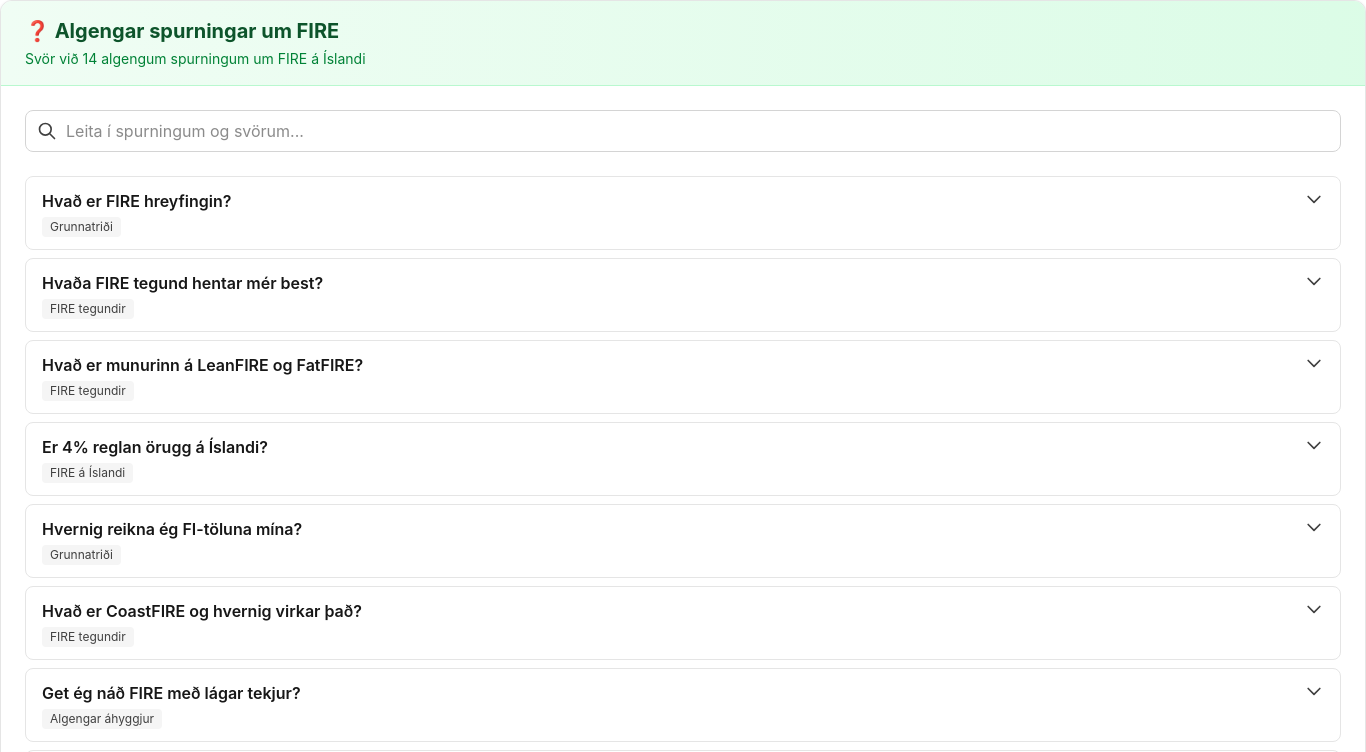
Test: FAQSection › filters questions based on search input
Step 1. Type "CoastFIRE" into the field with placeholder "Leita í spurningum og svörum..." → (683, 131), box [25,110,1341,152]
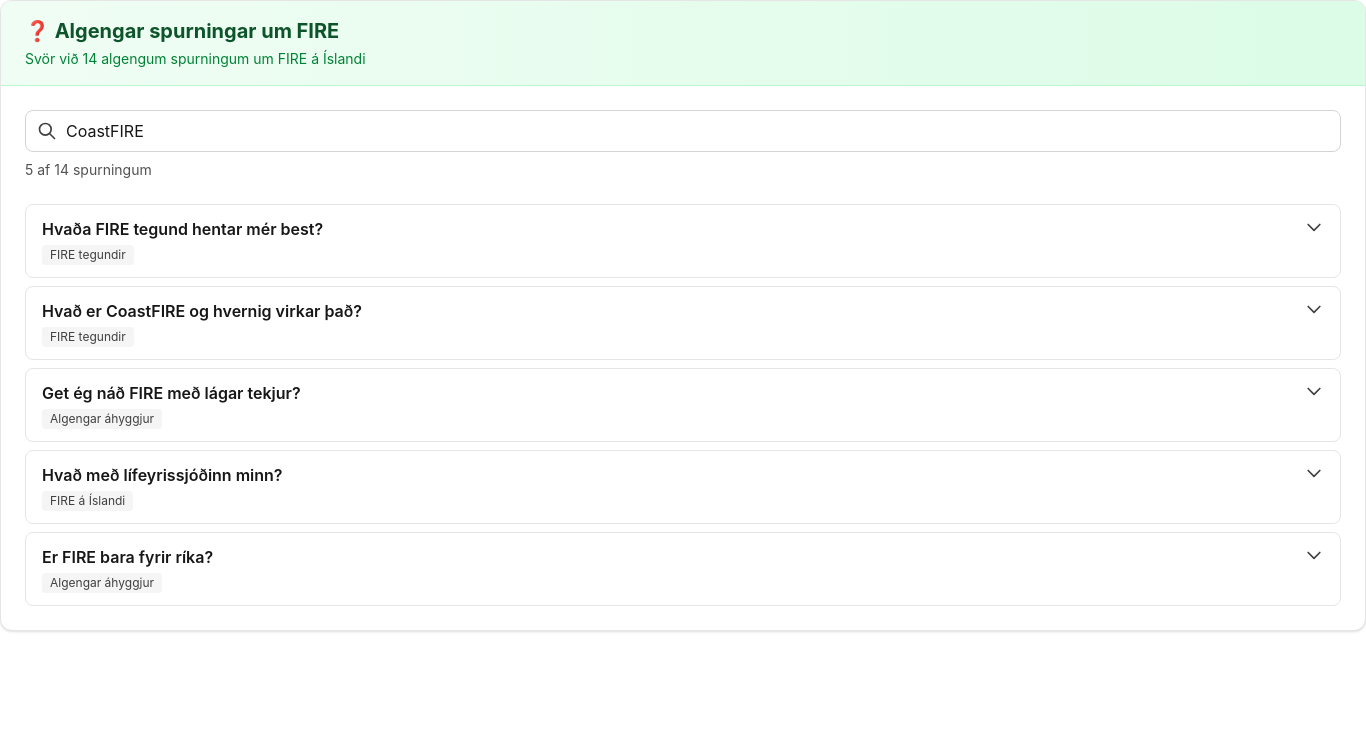
Expected: the text "5 af 14 spurningum" is shown, [25,161,152,178]
Expected: the heading "Hvað er CoastFIRE og hvernig virkar það?" is shown, [42,301,362,321]
